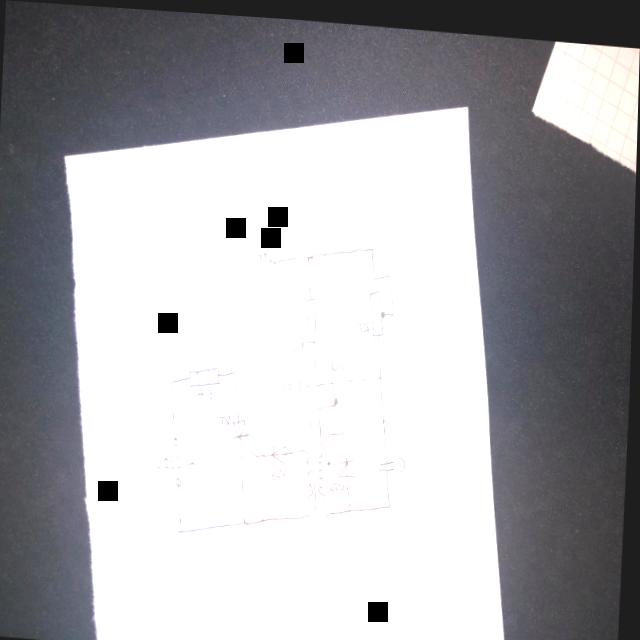capacitor: (380, 452, 398, 468)
diode: (273, 438, 291, 466), (340, 450, 360, 474)
junction: (305, 248, 314, 258), (319, 425, 328, 435), (255, 447, 263, 458), (245, 512, 252, 524), (307, 505, 316, 514), (325, 506, 334, 515), (317, 399, 326, 408), (372, 269, 381, 278), (233, 363, 241, 373), (349, 500, 357, 510), (369, 239, 377, 249), (180, 524, 188, 533), (171, 375, 179, 384), (387, 495, 395, 504), (379, 369, 387, 378), (314, 374, 322, 383), (387, 265, 395, 274), (392, 301, 398, 313), (343, 425, 349, 433)
resistor: (369, 283, 389, 332), (305, 291, 322, 340)
terminal: (173, 431, 182, 446), (178, 472, 186, 486), (270, 253, 279, 265)
text: (154, 450, 198, 470), (282, 373, 313, 394), (273, 460, 292, 477), (331, 474, 349, 490), (199, 382, 217, 398), (357, 314, 372, 331), (218, 408, 234, 423), (295, 330, 307, 349), (333, 352, 348, 367), (399, 450, 409, 468), (255, 246, 265, 259), (308, 413, 318, 425)
thyristor: (233, 413, 254, 442)
transformer: (302, 441, 334, 495)
transistor: (330, 366, 352, 417)
